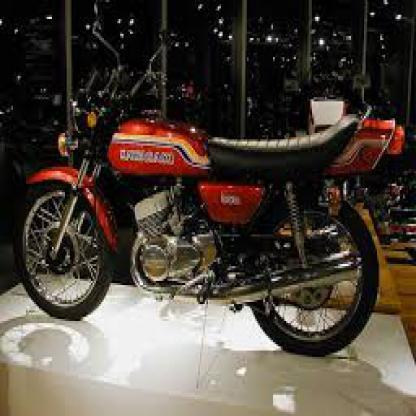Motorcycle: (11, 17, 410, 362)
